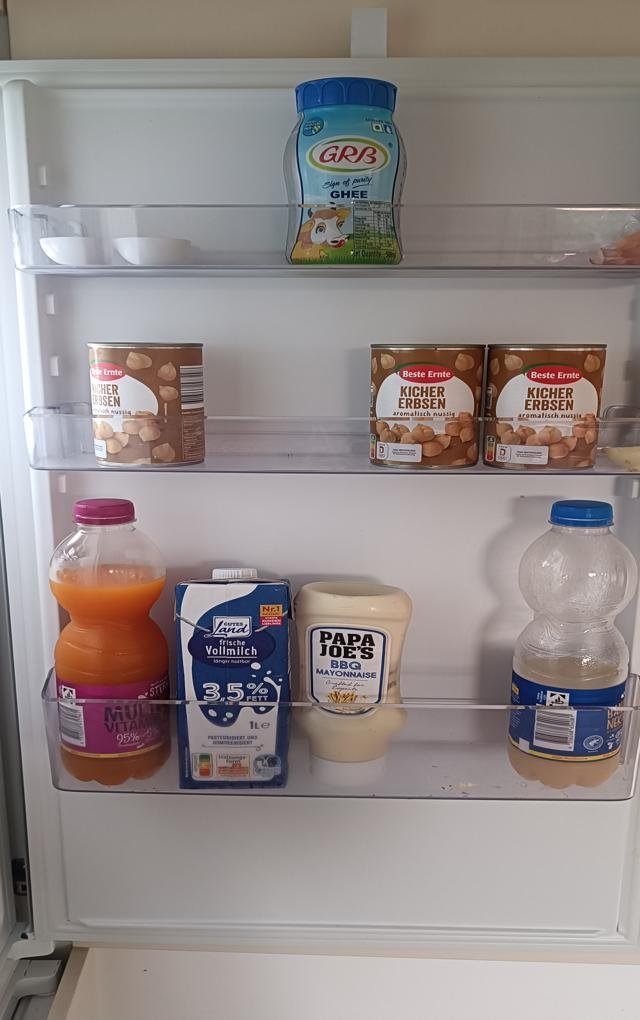bananajuice: (509, 497, 638, 794)
chickpeas: (90, 338, 207, 470), (484, 343, 602, 468), (369, 344, 484, 470)
ghee: (280, 76, 411, 272)
mayoniasie: (289, 582, 411, 787)
milk: (170, 564, 293, 793)
orangejuice: (48, 495, 173, 793)
